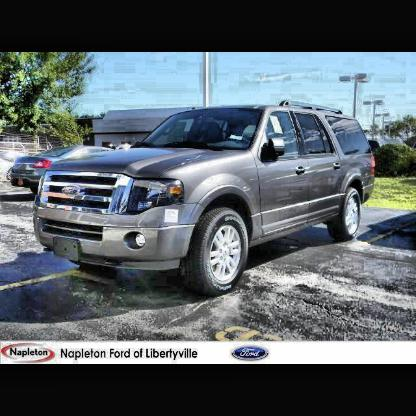Ford Expedition EL SUV 2009: (34, 104, 377, 295)
